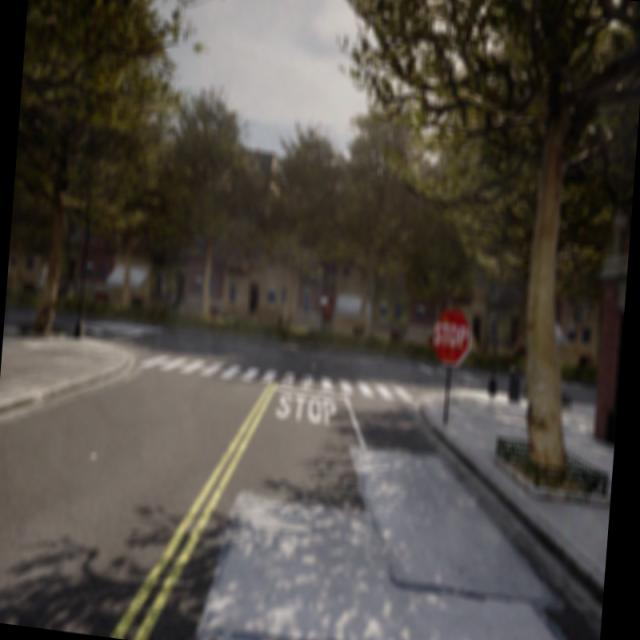stop sign: (429, 304, 474, 369), (432, 318, 469, 349)
